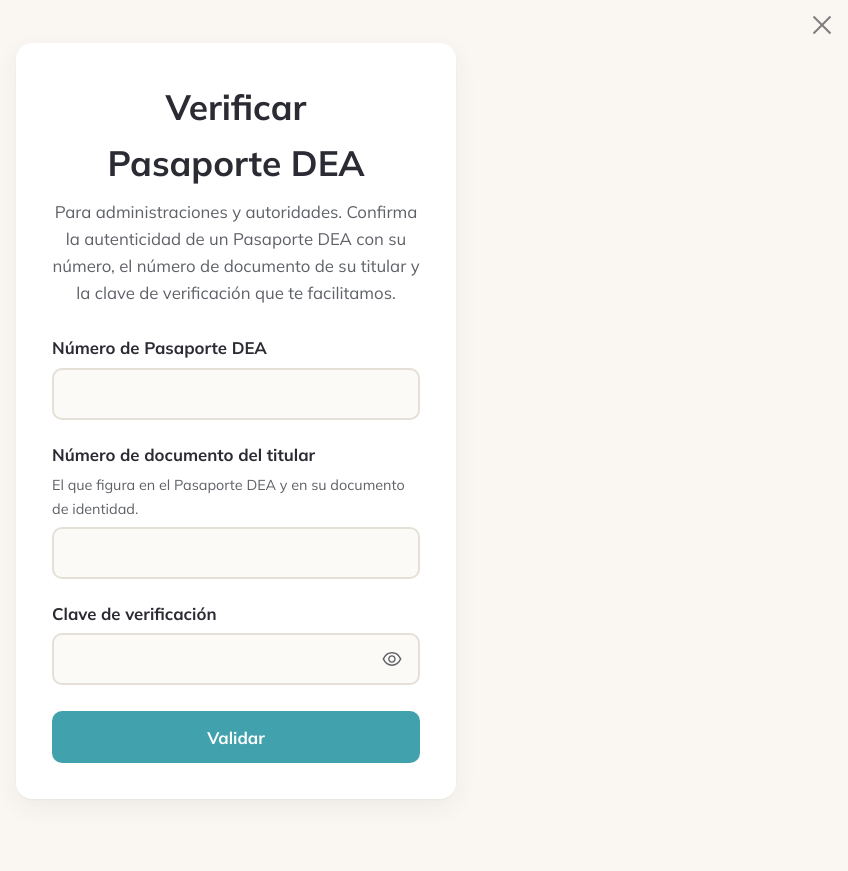
a refusal shows one combined message and does not navigate
The width and height of the screenshot is (848, 871).
In the field labelled "Número de Pasaporte DEA": x=236, y=394 top-left (52, 368), bottom-right (420, 420), type "1001"
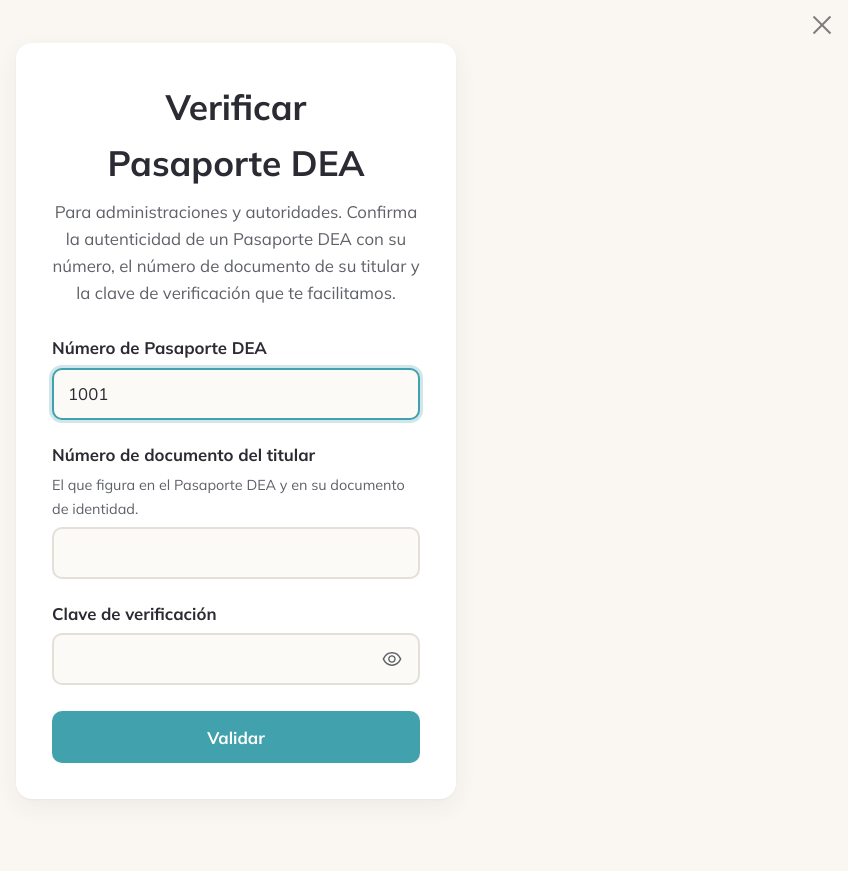
In the field labelled "Número de documento del titular": x=236, y=552 top-left (52, 526), bottom-right (420, 578), type " 40.111.222 "
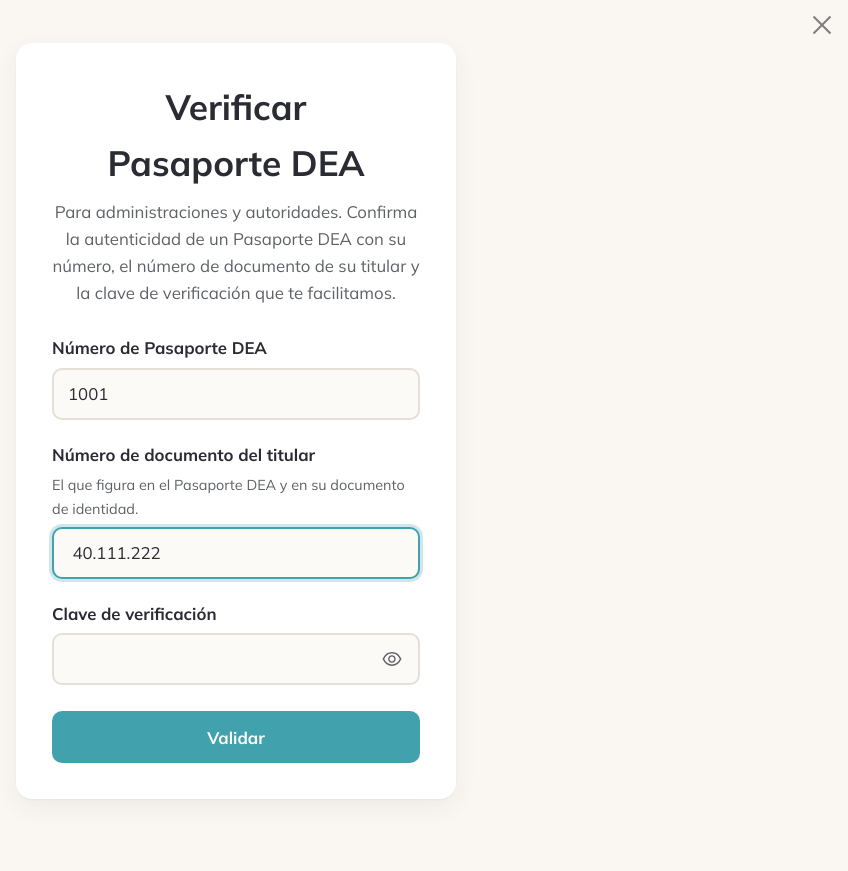
In the password field labelled "Clave de verificación": x=236, y=659 top-left (52, 633), bottom-right (420, 685), type "clave-de-prueba"
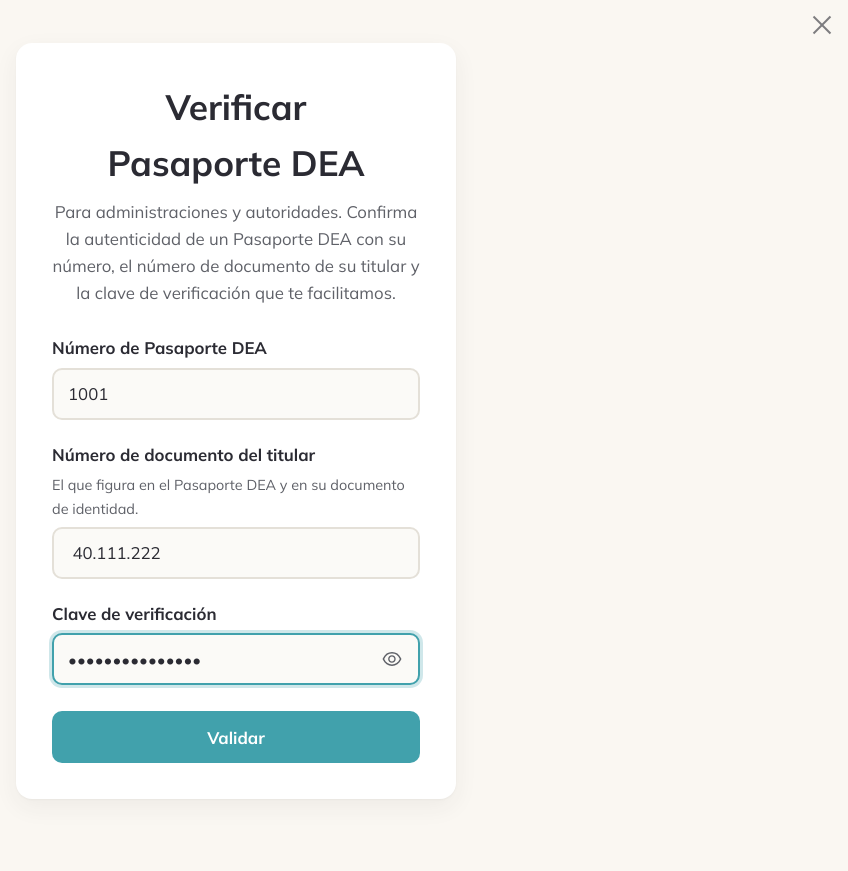
Click the button "Validar": x=236, y=737 top-left (52, 711), bottom-right (420, 763)
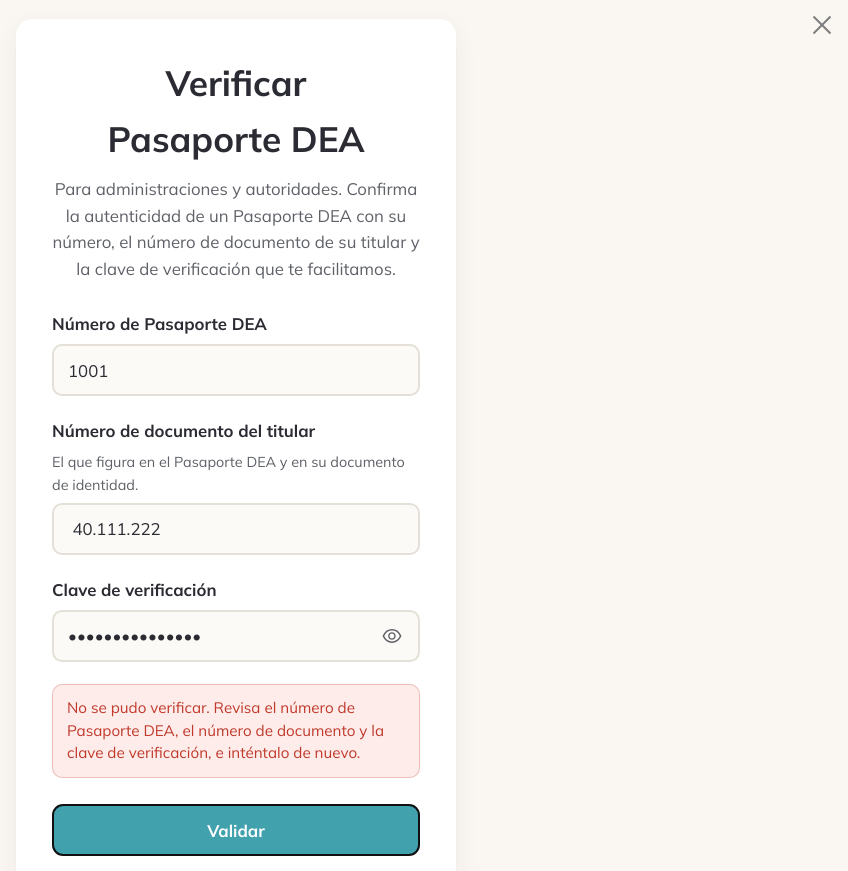
Result: the text "Revisa el número de Pasaporte DEA, el número de documento" is shown at top-left (67, 698), bottom-right (384, 762)
